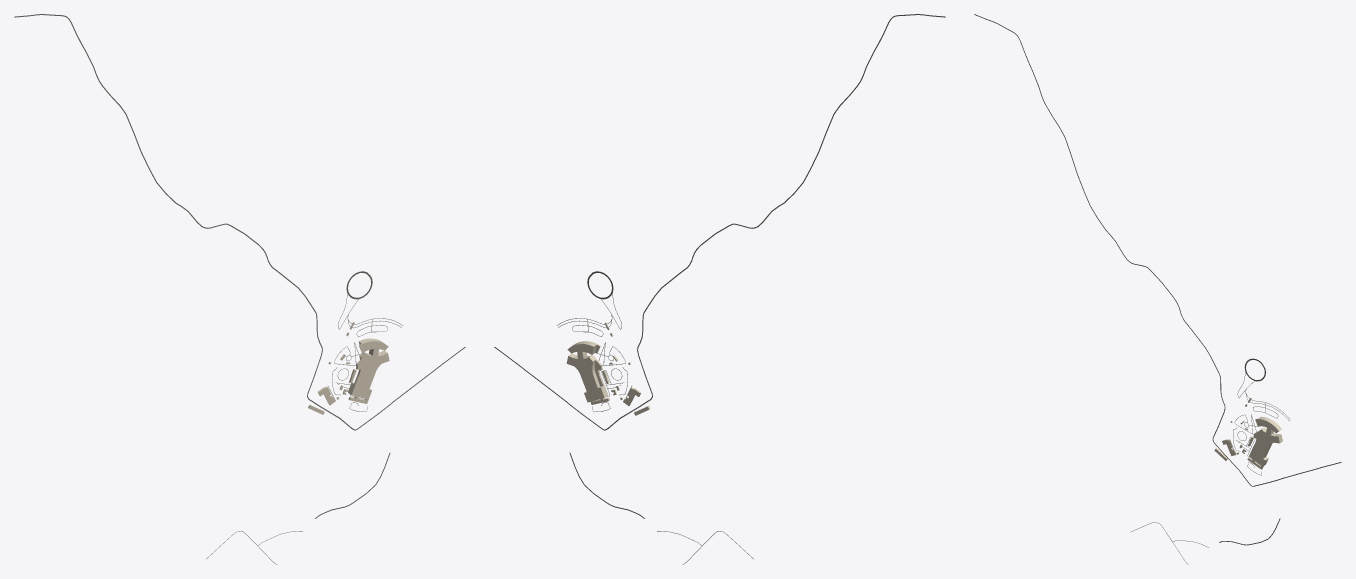
The model's file is zarqa_3612_3207.glb.
3 renders of one model, left to right at view 1: azimuth 30°, elevation 25°; view 2: azimuth 150°, elevation 25°; view 3: azimuth 330°, elevation 25°, orthographic. The views are drawn at different scales.
Visible parts, largest first — view 1: Building_, Road .001; view 2: Building_, Road .001; view 3: Road .001, Building_.
Part boxes in pixels (x1,y1,x2,y2): Building_: [348, 338, 389, 399]; Road .001: [14, 14, 465, 430]; Building_: [566, 341, 608, 402]; Road .001: [494, 14, 945, 430]; Road .001: [974, 14, 1341, 486]; Building_: [1249, 416, 1282, 466].
Bounding box in the file's own units: 1502 × 1948 × 22.9.
